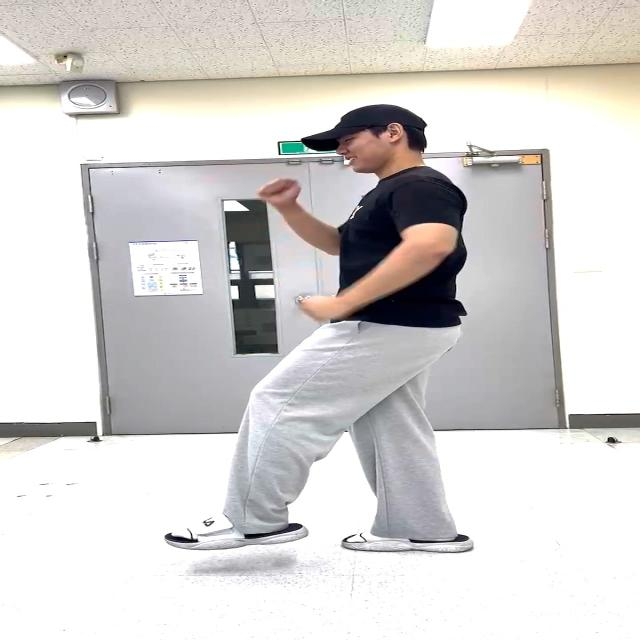leg: (152, 307, 372, 576)
